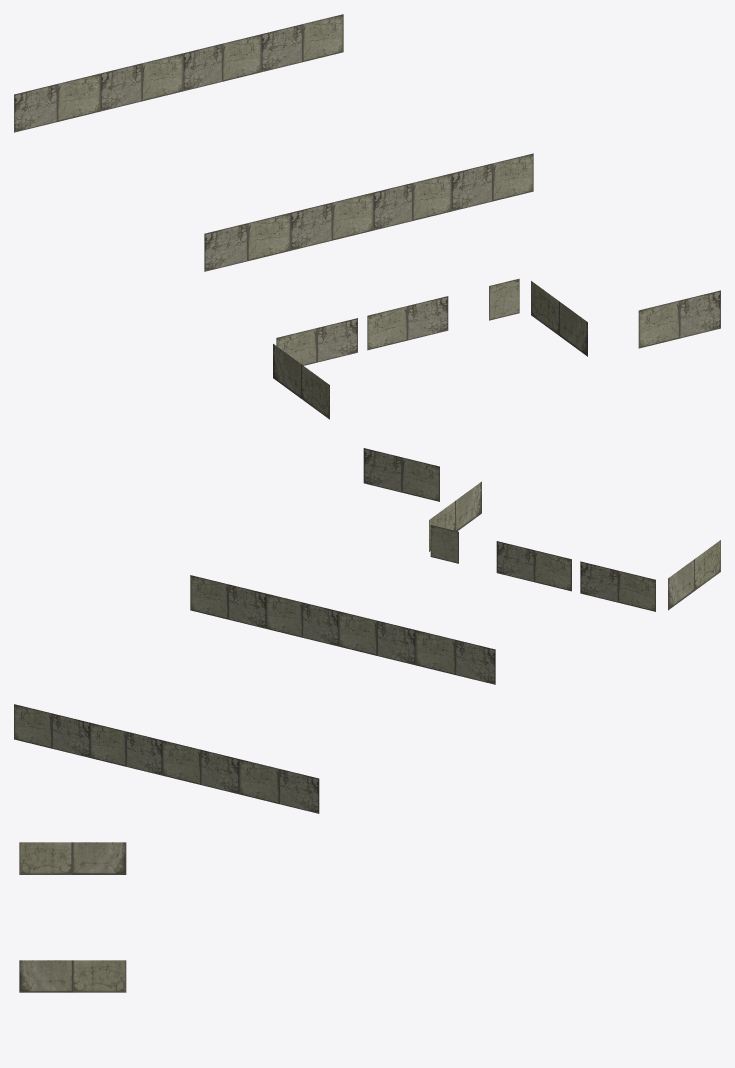
Rendered from SM_Republic_02_windows.fbx.
3 renders of one model, top to bottom at view 1: azimuth 30°, elevation 25°; view 2: azimuth 150°, elevation 25°; view 3: azimuth 270°, elevation 25°, orthographic. The views are drawn at different scales.
Parts seen in each view (by area): view 1: SM_Republic_02_windows.006, SM_Republic_02_windows.001, SM_Republic_02_windows.002, SM_Republic_02_windows.007, SM_Republic_02_windows.009, SM_Republic_02_windows.005, SM_Republic_02_windows.004, SM_Republic_02_windows.003, SM_Republic_02_windows.008, SM_Republic_02_00.020, SM_Republic_02_00.021, SM_Republic_02_00.022 (+2 smaller); view 2: SM_Republic_02_windows.006, SM_Republic_02_windows.001, SM_Republic_02_windows.002, SM_Republic_02_windows.007, SM_Republic_02_windows.009, SM_Republic_02_windows.005, SM_Republic_02_windows.004, SM_Republic_02_windows.003, SM_Republic_02_windows.008, SM_Republic_02_00.021, SM_Republic_02_00.020, SM_Republic_02_00.022 (+2 smaller); view 3: SM_Republic_02_00.019, SM_Republic_02_00.022.
Boxes of the visible parts, left/top/right/bottom form: SM_Republic_02_windows.006: left=14, top=73, right=100, bottom=132; SM_Republic_02_windows.001: left=204, top=212, right=290, bottom=271; SM_Republic_02_windows.002: left=290, top=192, right=373, bottom=250; SM_Republic_02_windows.007: left=100, top=53, right=183, bottom=111; SM_Republic_02_windows.009: left=638, top=290, right=720, bottom=348; SM_Republic_02_windows.005: left=261, top=14, right=343, bottom=72; SM_Republic_02_windows.004: left=451, top=153, right=533, bottom=211; SM_Republic_02_windows.003: left=373, top=173, right=451, bottom=230; SM_Republic_02_windows.008: left=183, top=34, right=261, bottom=91; SM_Republic_02_00.020: left=367, top=296, right=448, bottom=350; SM_Republic_02_00.021: left=276, top=318, right=357, bottom=365; SM_Republic_02_00.022: left=273, top=344, right=329, bottom=419; SM_Republic_02_windows.006: left=239, top=759, right=319, bottom=813; SM_Republic_02_windows.001: left=415, top=630, right=495, bottom=684; SM_Republic_02_windows.002: left=338, top=611, right=415, bottom=665; SM_Republic_02_windows.007: left=162, top=740, right=239, bottom=794; SM_Republic_02_windows.009: left=363, top=448, right=439, bottom=501; SM_Republic_02_windows.005: left=14, top=704, right=90, bottom=757; SM_Republic_02_windows.004: left=190, top=575, right=266, bottom=628; SM_Republic_02_windows.003: left=266, top=594, right=338, bottom=646; SM_Republic_02_windows.008: left=90, top=722, right=162, bottom=775; SM_Republic_02_00.021: left=580, top=561, right=655, bottom=611; SM_Republic_02_00.020: left=496, top=541, right=571, bottom=591; SM_Republic_02_00.022: left=668, top=540, right=720, bottom=610; SM_Republic_02_00.019: left=19, top=960, right=126, bottom=992; SM_Republic_02_00.022: left=19, top=842, right=126, bottom=874.
Bounding box in the file's own units: 2641 × 248 × 4449.
